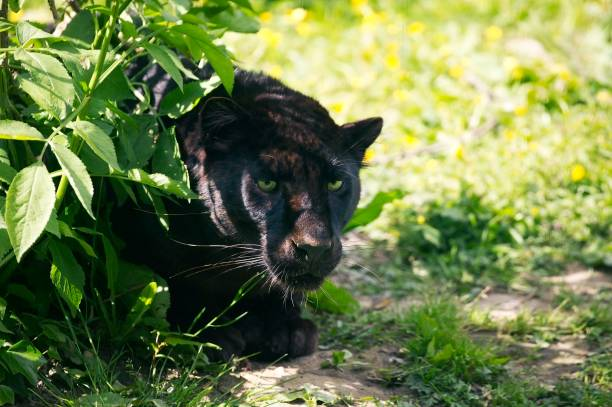panther: (184, 90, 387, 316)
